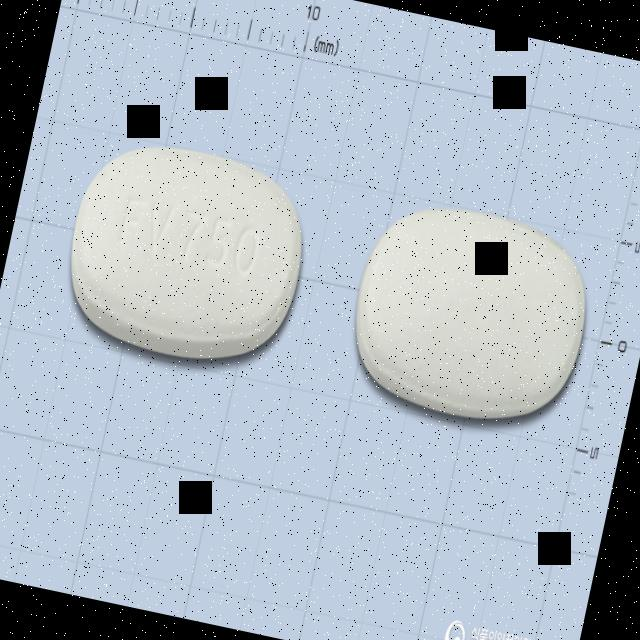Famvir: (51, 128, 320, 380)
